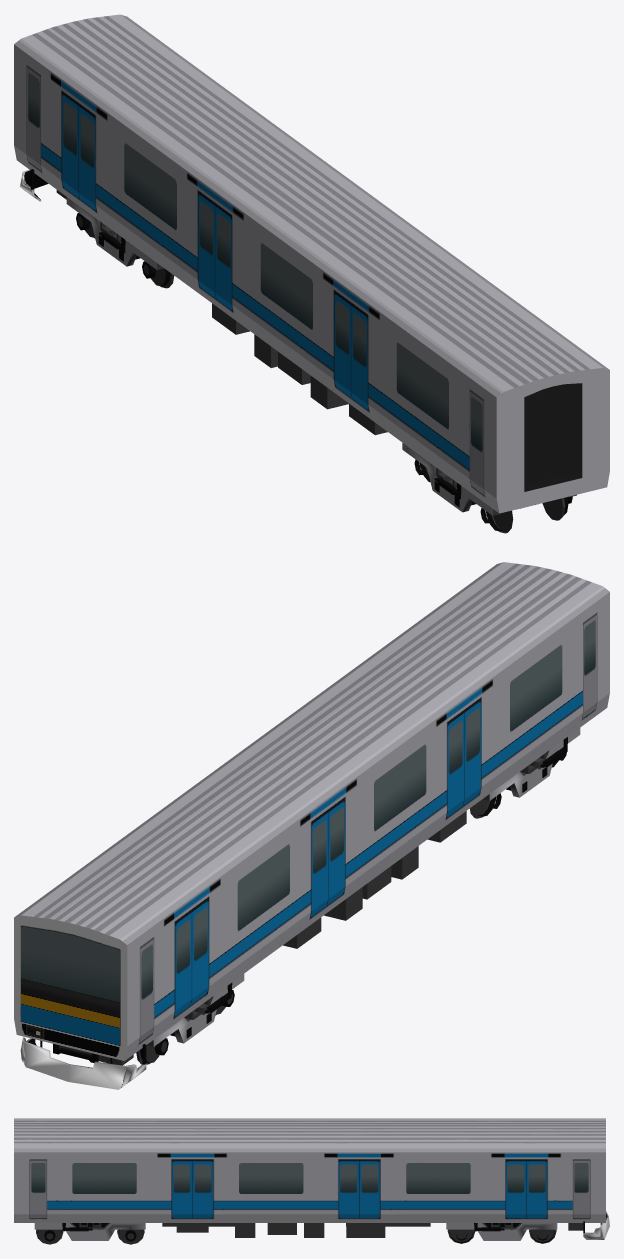
File: Train_03.fbx
3 views of the same model, one above another, from view 1: azimuth 30°, elevation 25°; view 2: azimuth 150°, elevation 25°; view 3: azimuth 270°, elevation 25° (orthographic). The views are drawn at different scales.
Visible parts, largest first — view 1: Cylinder.004; view 2: Cylinder.004; view 3: Cylinder.004.
Boxes of the visible parts, box(x1,y1,x2,y2) form: Cylinder.004: box(14, 14, 609, 533); Cylinder.004: box(14, 562, 609, 1089); Cylinder.004: box(14, 1118, 609, 1244).
Size of the model in its own units: 183 by 265 by 1357.
Materials: 2 (2 with a texture image).
